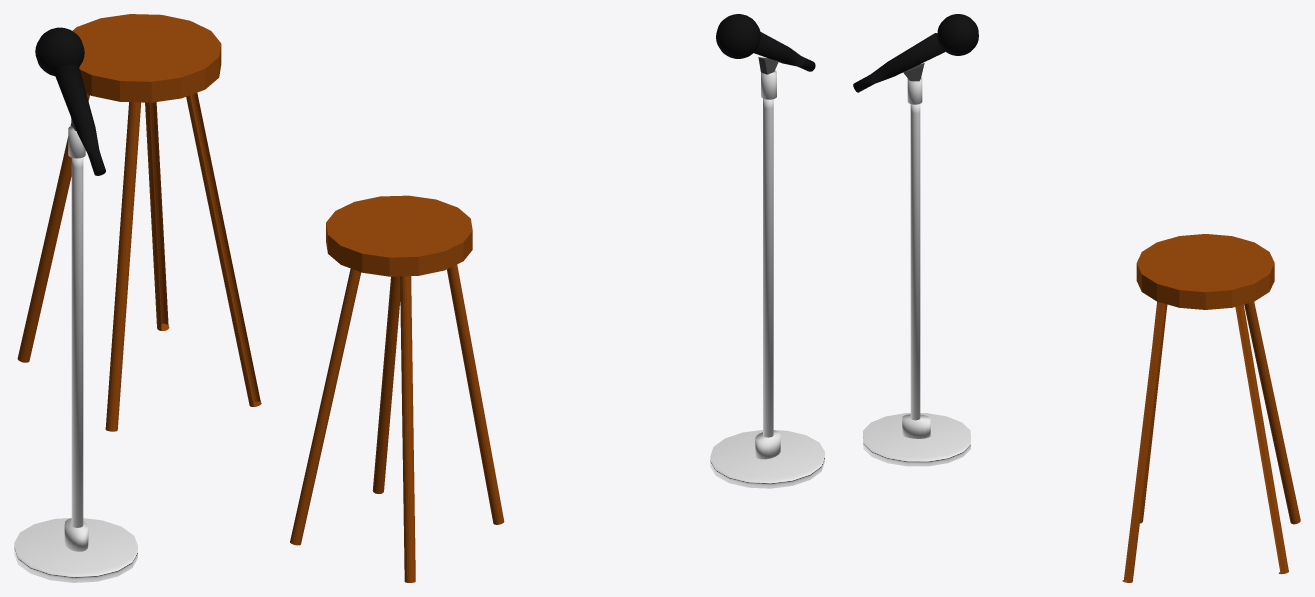
File: openmic.glb
3 renders of one model, left to right at view 1: azimuth 30°, elevation 25°; view 2: azimuth 150°, elevation 25°; view 3: azimuth 270°, elevation 25°, orthographic. The views are drawn at different scales.
Parts seen in each view (by area): view 1: Cylinder.005, Cylinder.004, Cylinder.002, Sphere, Cylinder.003, Cylinder.001; view 2: Cylinder.005, Cylinder.004, Cylinder.002, Sphere; view 3: Cylinder.005, Cylinder.004, Cylinder.002, Sphere, Cylinder.003.
Boxes of the visible parts, <box> form: Cylinder.005: <box>17,14,261,431</box>; Cylinder.004: <box>14,518,137,582</box>; Cylinder.002: <box>71,157,83,527</box>; Sphere: <box>35,27,105,175</box>; Cylinder.003: <box>64,518,88,551</box>; Cylinder.001: <box>68,126,85,158</box>; Cylinder.005: <box>290,195,504,582</box>; Cylinder.004: <box>710,430,824,488</box>; Cylinder.002: <box>763,98,773,437</box>; Sphere: <box>716,14,815,71</box>; Cylinder.005: <box>1122,234,1300,582</box>; Cylinder.004: <box>863,413,970,466</box>; Cylinder.002: <box>910,104,920,420</box>; Sphere: <box>853,14,978,92</box>; Cylinder.003: <box>902,414,930,438</box>.
Size of the model in its own units: 2.65 by 3.65 by 3.34.
